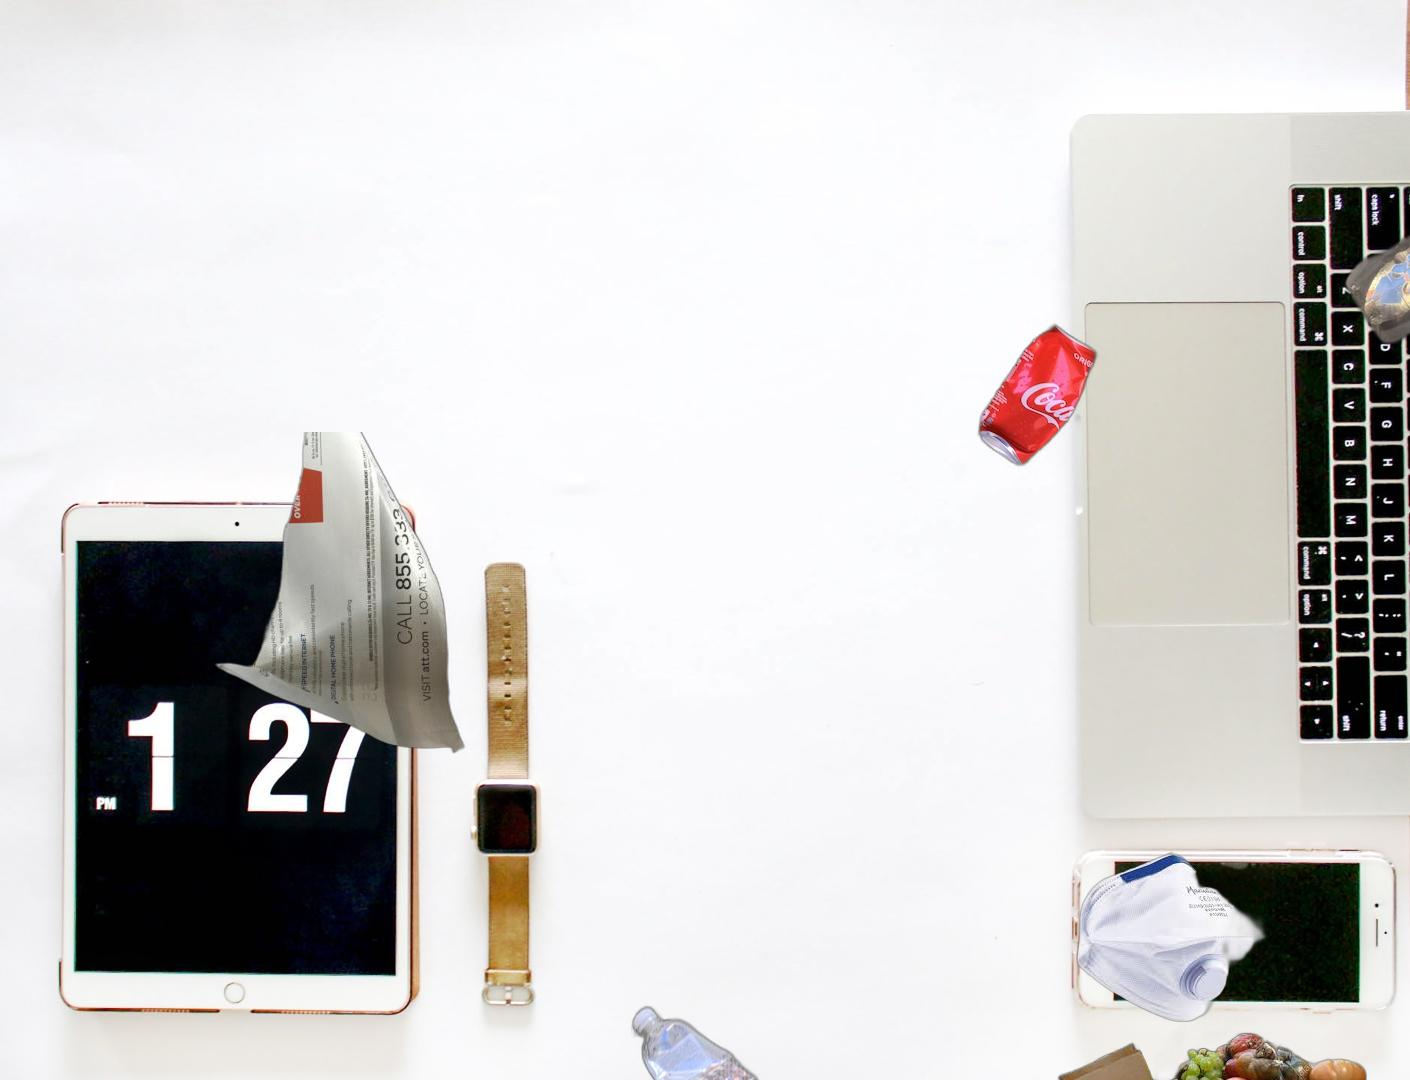biological: (1116, 1006, 1378, 1080)
metal-cans: (976, 319, 1101, 472)
paper: (213, 432, 468, 756)
paper-bag: (1044, 1041, 1197, 1080)
plastic-bottles: (1340, 136, 1410, 405), (630, 999, 766, 1080)
trash: (1074, 850, 1270, 1026)
